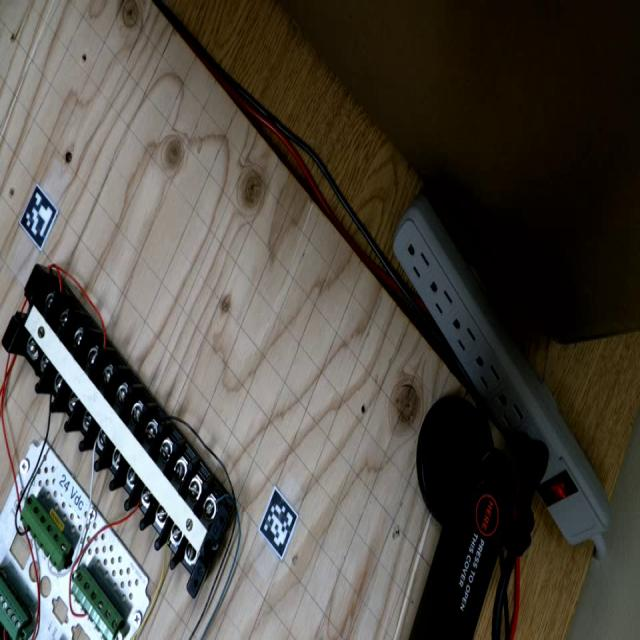Flathead_Block: (0, 262, 256, 598)
Terminal_1: (12, 493, 79, 571), (62, 565, 129, 640)
Terminal_2: (0, 576, 34, 640)
